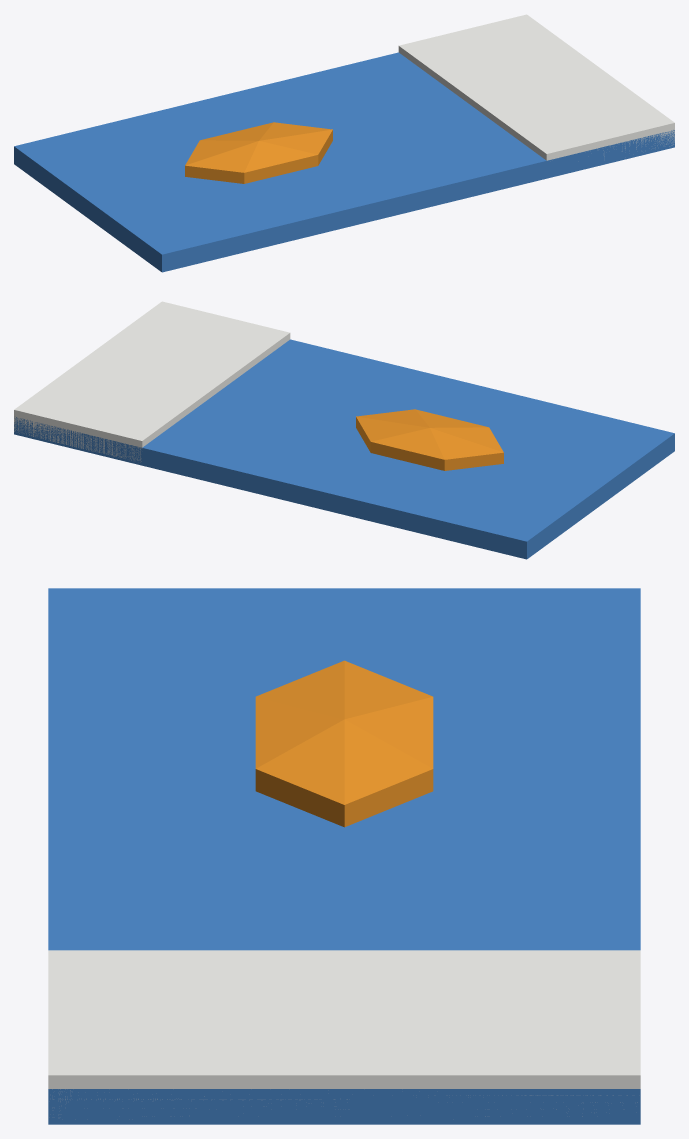
Rendered from aquarium_ticket.glb.
3 renders of one model, top to bottom at view 1: azimuth 30°, elevation 25°; view 2: azimuth 150°, elevation 25°; view 3: azimuth 270°, elevation 25°, orthographic. The views are drawn at different scales.
Parts seen in each view (by area): view 1: card_ticket_blue, stub_ticket_white, fish_goldfish; view 2: card_ticket_blue, stub_ticket_white, fish_goldfish; view 3: card_ticket_blue, stub_ticket_white, fish_goldfish.
Boxes of the visible parts, x1,y1,x2,y2 form: card_ticket_blue: (14,52,674,272); stub_ticket_white: (398,14,674,160); fish_goldfish: (185,122,332,183); card_ticket_blue: (14,339,674,559); stub_ticket_white: (14,301,290,462); fish_goldfish: (356,409,503,470); card_ticket_blue: (48,588,640,1124); stub_ticket_white: (48,950,640,1116); fish_goldfish: (255,660,433,827).
Size of the model in its own units: 0.12 by 0.008 by 0.06.
